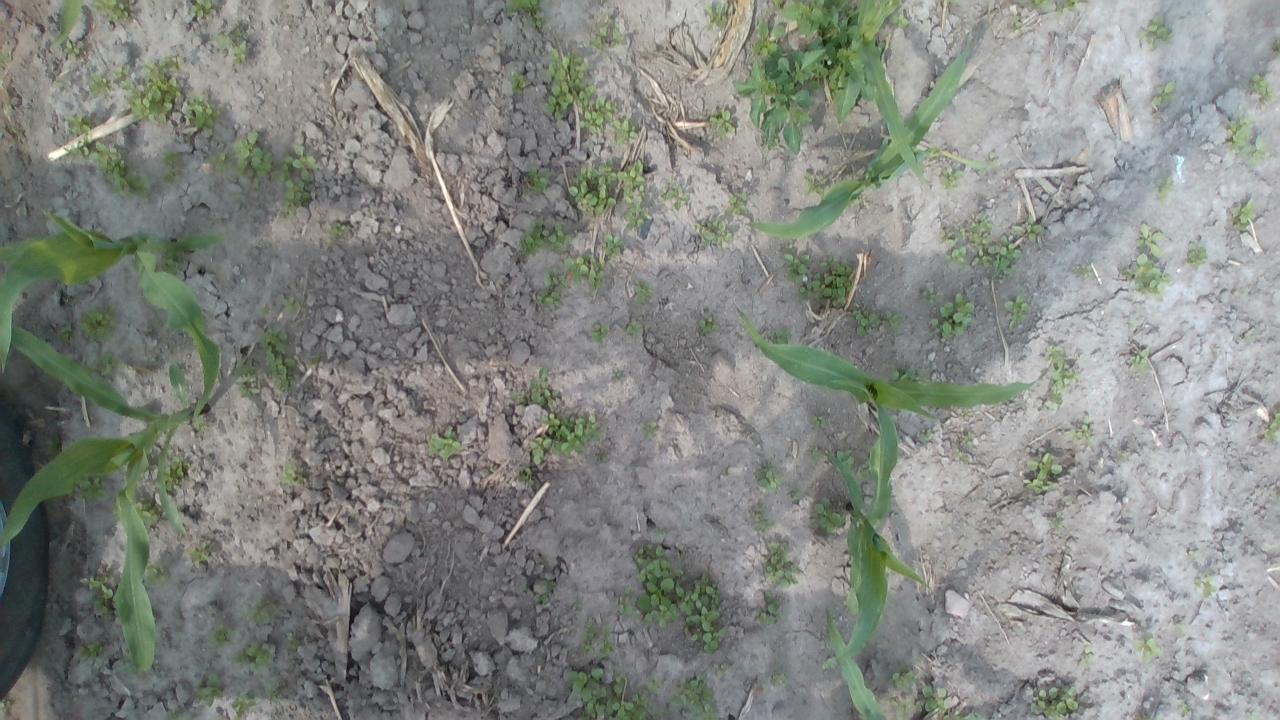Maize: (0, 322, 210, 678), (0, 208, 227, 431), (746, 42, 970, 242), (734, 304, 1052, 418), (820, 377, 930, 669), (824, 0, 926, 180), (45, 0, 199, 51), (825, 606, 888, 720)
Weeds: (732, 0, 858, 154), (562, 664, 666, 720), (633, 540, 690, 632), (543, 48, 596, 121), (682, 572, 728, 653), (88, 140, 149, 198), (276, 144, 319, 216), (541, 411, 604, 456), (142, 56, 184, 123), (799, 256, 854, 307), (231, 128, 276, 190), (258, 326, 298, 393), (667, 672, 721, 720), (970, 234, 1026, 280), (564, 166, 616, 215), (508, 366, 562, 410), (928, 292, 977, 338), (1122, 252, 1170, 296), (520, 216, 572, 256), (1045, 345, 1080, 403), (1028, 684, 1080, 720), (112, 62, 142, 121), (1022, 451, 1064, 493), (764, 542, 802, 588), (562, 252, 605, 290), (575, 622, 618, 658), (79, 304, 119, 342), (580, 95, 618, 134), (86, 574, 118, 620), (233, 640, 276, 674), (1223, 112, 1254, 159), (182, 93, 220, 130), (814, 496, 850, 535), (1136, 15, 1174, 51), (960, 216, 994, 256), (426, 424, 462, 460), (534, 267, 566, 306), (694, 216, 733, 248), (192, 671, 225, 708), (616, 159, 646, 198), (505, 0, 544, 30), (212, 32, 248, 62), (88, 351, 128, 378), (588, 23, 626, 51), (782, 250, 810, 286), (1248, 74, 1280, 105), (754, 462, 786, 493), (1010, 214, 1044, 243), (1134, 223, 1162, 258), (1133, 636, 1163, 668), (1002, 296, 1032, 328), (756, 592, 784, 626), (234, 359, 259, 397), (622, 198, 652, 229), (660, 178, 690, 209), (708, 108, 737, 140), (80, 475, 113, 503), (158, 248, 188, 278), (163, 456, 187, 493), (701, 2, 730, 32), (852, 308, 882, 336), (887, 694, 919, 720), (1230, 202, 1258, 231), (1183, 239, 1209, 270), (206, 622, 234, 650), (801, 170, 830, 197), (750, 503, 777, 532), (526, 165, 553, 193), (887, 664, 918, 688), (612, 118, 640, 144), (134, 497, 160, 525), (228, 689, 256, 715), (920, 684, 946, 712), (92, 0, 128, 20), (1192, 572, 1218, 599), (528, 435, 550, 466), (244, 600, 272, 624), (614, 587, 638, 615), (158, 150, 176, 186), (1150, 82, 1176, 106), (1070, 422, 1094, 448), (62, 114, 92, 134), (532, 580, 557, 604), (942, 166, 965, 192), (1129, 348, 1152, 374), (63, 138, 89, 160), (89, 72, 112, 96), (280, 462, 304, 485), (726, 191, 748, 216), (206, 150, 231, 172), (143, 562, 167, 584), (1246, 140, 1266, 166), (78, 640, 104, 660), (1264, 408, 1280, 440), (633, 282, 656, 304), (187, 545, 209, 568), (696, 316, 720, 336), (1048, 510, 1066, 536), (835, 448, 857, 469), (508, 71, 526, 96), (766, 670, 791, 688), (604, 234, 624, 256), (326, 221, 349, 240), (190, 0, 217, 16), (883, 310, 904, 330), (944, 246, 966, 265), (886, 12, 911, 28), (516, 466, 536, 486), (942, 710, 981, 720), (1157, 176, 1173, 200), (1056, 0, 1078, 16), (120, 651, 136, 673), (590, 324, 608, 342), (639, 421, 657, 439), (286, 295, 304, 313), (1076, 262, 1096, 278), (264, 680, 278, 702), (62, 39, 80, 56), (1010, 14, 1024, 34), (1078, 651, 1094, 668), (939, 231, 956, 247), (1176, 698, 1190, 717), (772, 330, 791, 344), (0, 46, 13, 66), (806, 446, 822, 462), (712, 662, 728, 678), (571, 591, 584, 609), (624, 322, 642, 334), (1028, 0, 1049, 10), (610, 367, 625, 381), (923, 287, 936, 303), (1142, 711, 1164, 720), (960, 432, 974, 446), (987, 152, 1000, 167), (1170, 620, 1184, 633), (918, 428, 934, 439), (951, 448, 964, 461), (1186, 549, 1200, 561), (259, 304, 273, 316), (1244, 329, 1256, 343), (814, 416, 828, 428), (854, 470, 868, 482), (873, 39, 885, 52), (60, 326, 74, 337), (166, 708, 178, 720), (0, 698, 9, 712), (789, 488, 800, 499), (1246, 710, 1258, 720), (198, 422, 208, 432), (518, 584, 528, 594), (946, 0, 960, 7), (654, 528, 664, 536), (1118, 452, 1126, 460)
